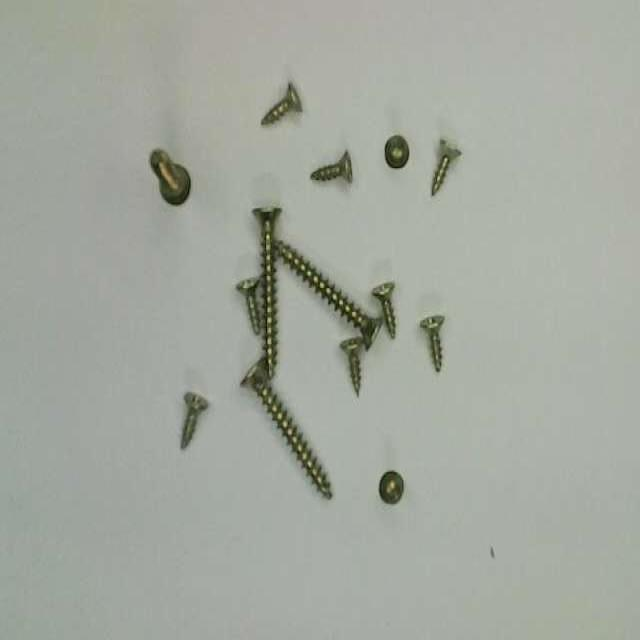Parafuso: (240, 355, 331, 495), (275, 242, 386, 351), (252, 206, 280, 374), (151, 148, 191, 205), (263, 85, 303, 128), (433, 141, 462, 196), (182, 392, 209, 449), (371, 282, 395, 337), (340, 337, 363, 394), (421, 316, 444, 372), (237, 277, 260, 332), (312, 151, 353, 181), (380, 471, 404, 503), (386, 136, 409, 168)
